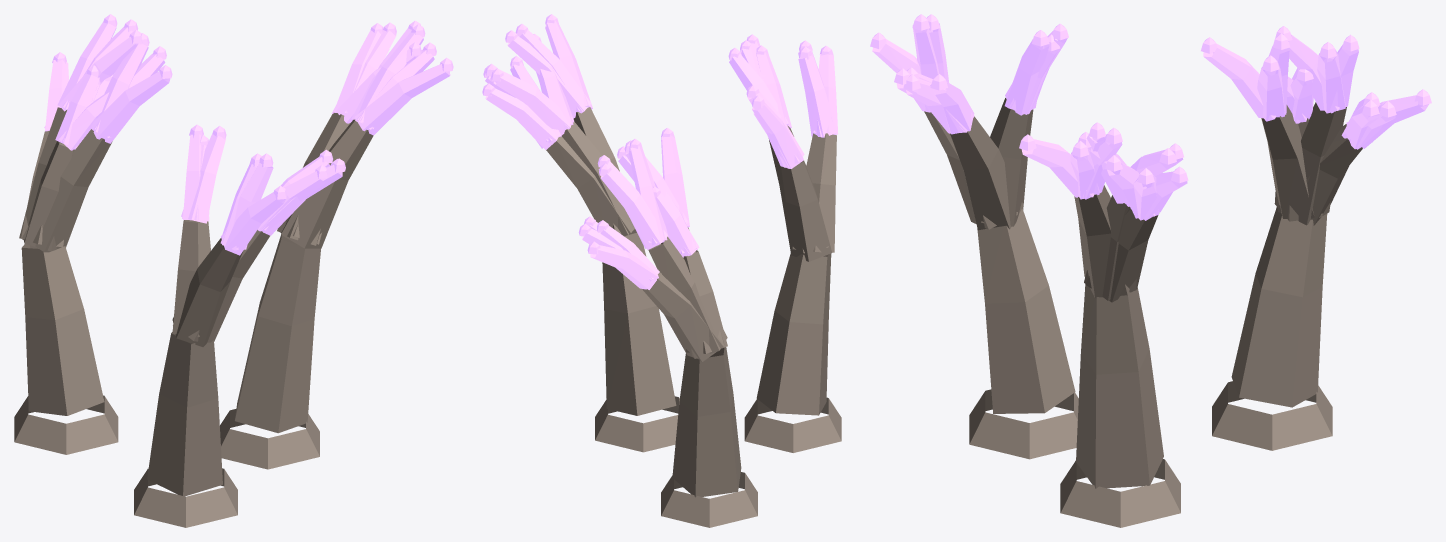
File: coral_v03.glb
The picture shows the model from 3 angles, left to right: view 1: azimuth 30°, elevation 25°; view 2: azimuth 150°, elevation 25°; view 3: azimuth 270°, elevation 25°; orthographic projection. The views are drawn at different scales.
Visible parts, largest first — view 1: mushroom_coral_flesh_nocol, mushroom_coral_glow_nocol; view 2: mushroom_coral_flesh_nocol, mushroom_coral_glow_nocol; view 3: mushroom_coral_flesh_nocol, mushroom_coral_glow_nocol.
Part boxes in pixels (x1=…): mushroom_coral_flesh_nocol: x1=14, y1=107, x2=373, y2=527; mushroom_coral_glow_nocol: x1=44, y1=14, x2=453, y2=255; mushroom_coral_flesh_nocol: x1=546, y1=107, x2=841, y2=527; mushroom_coral_glow_nocol: x1=482, y1=14, x2=838, y2=289; mushroom_coral_flesh_nocol: x1=924, y1=98, x2=1362, y2=527; mushroom_coral_glow_nocol: x1=870, y1=14, x2=1431, y2=220.
Bounding box in the file's own units: 0.8409 × 0.9048 × 1.01.
